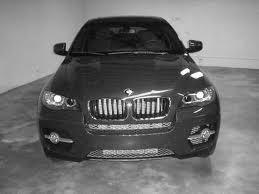car: (38, 14, 225, 160)
